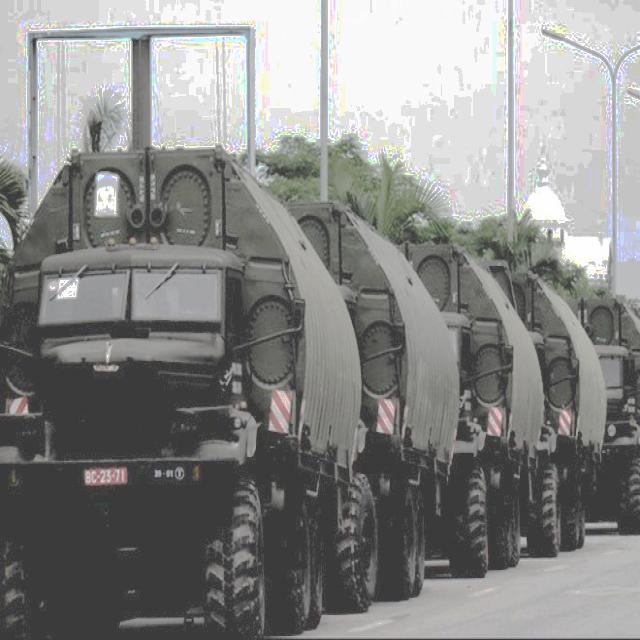license_plate: (87, 465, 128, 487)
